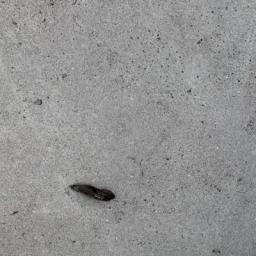FOD: (70, 181, 120, 204)
